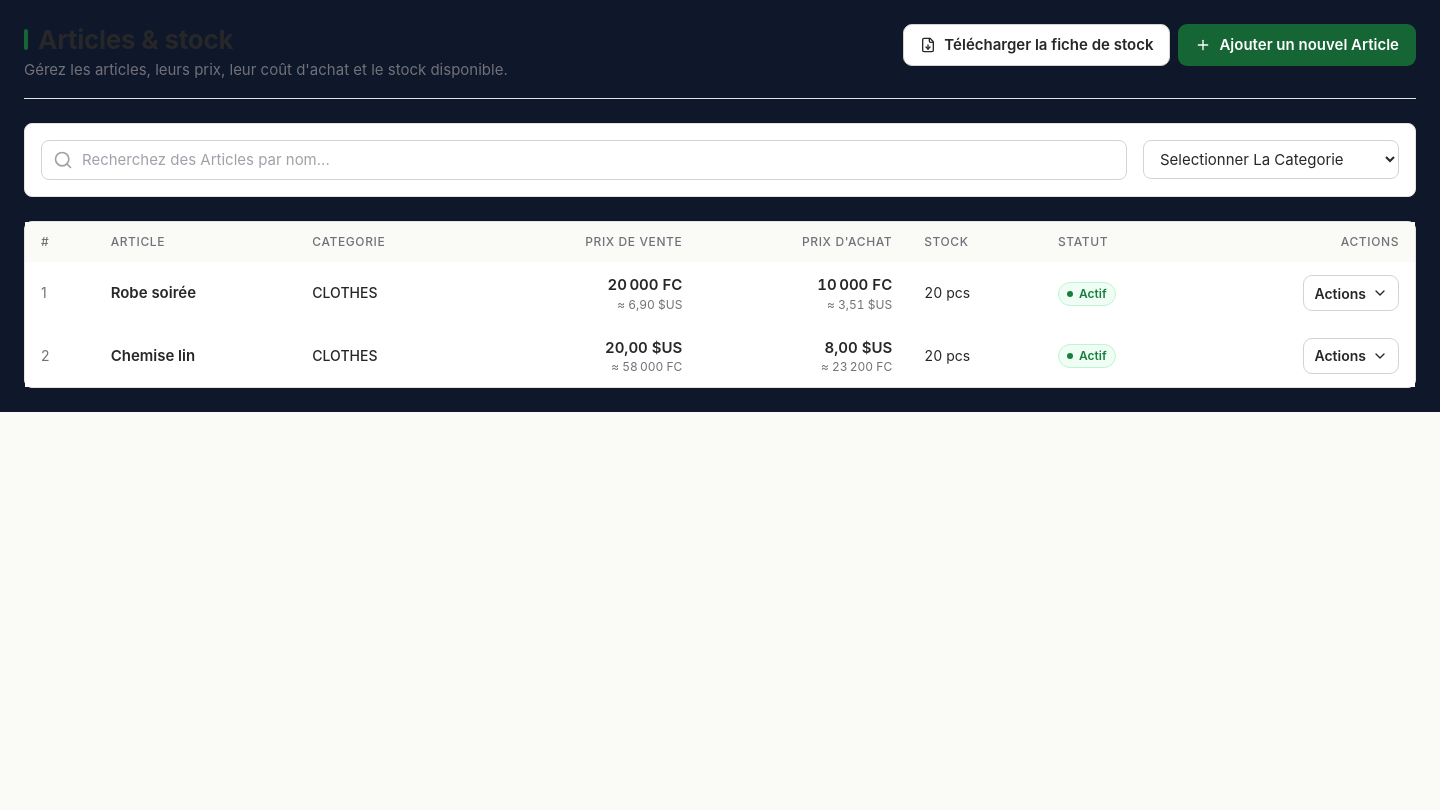
Scenario: Articles: the edit form opens on the authoritative price, and an unrelated edit never resubmits price or cost
This screenshot has width=1440, height=810.
Click the button with aria-label "Actions pour ".
click(1351, 293)  # box [1304,275,1399,311]
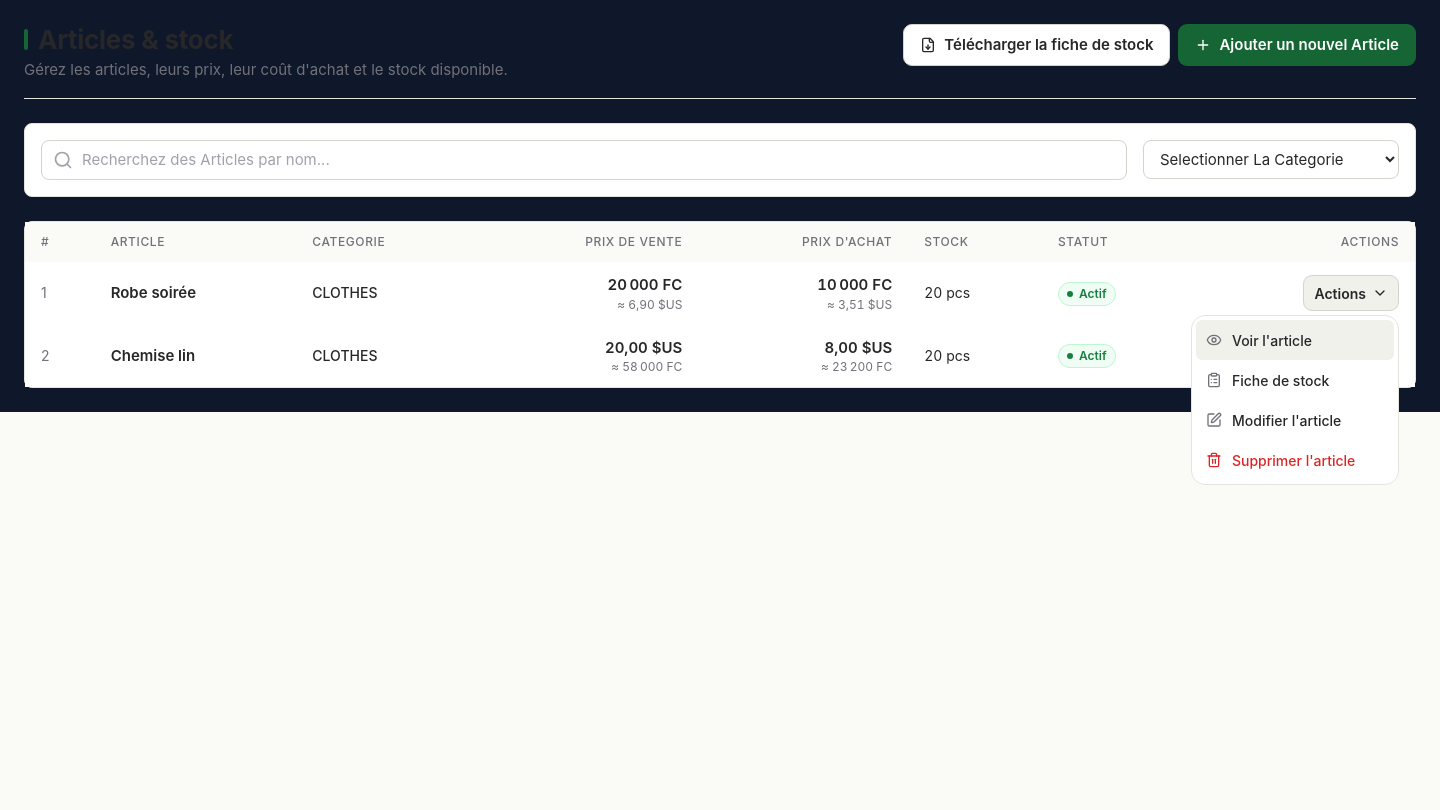
Click the menu item "Modifier l'article".
click(1295, 420)  # box [1196,400,1394,440]
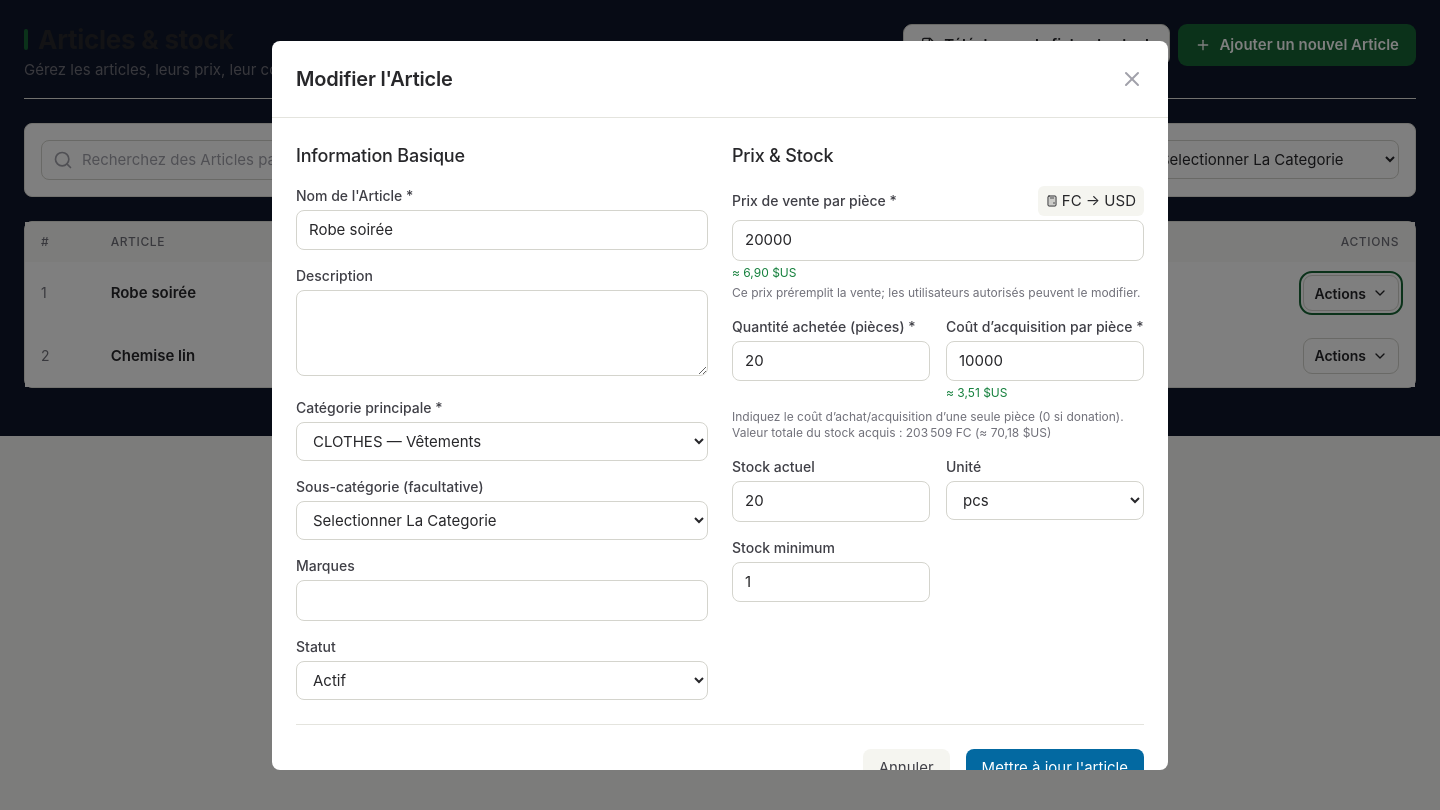
Check: the number field labelled "Prix de vente par pièce *" holds "20000", box [732,220,1144,260]
Replace the text in the number field labelled "Stock actuel" with "18" at [831, 501], box [732,481,930,522]
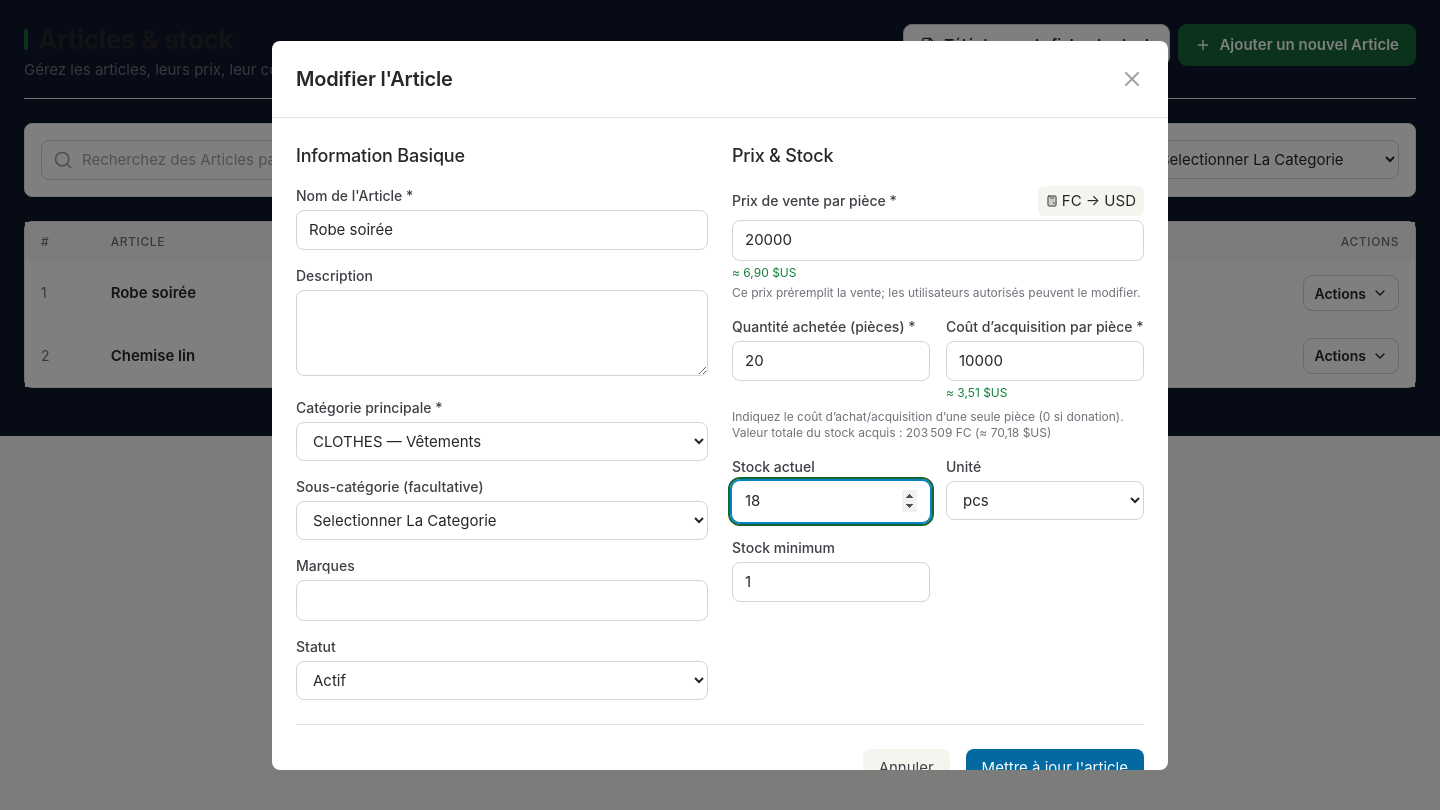
Click the button "Mettre à jour l'article".
click(1055, 768)  # box [966,748,1144,787]
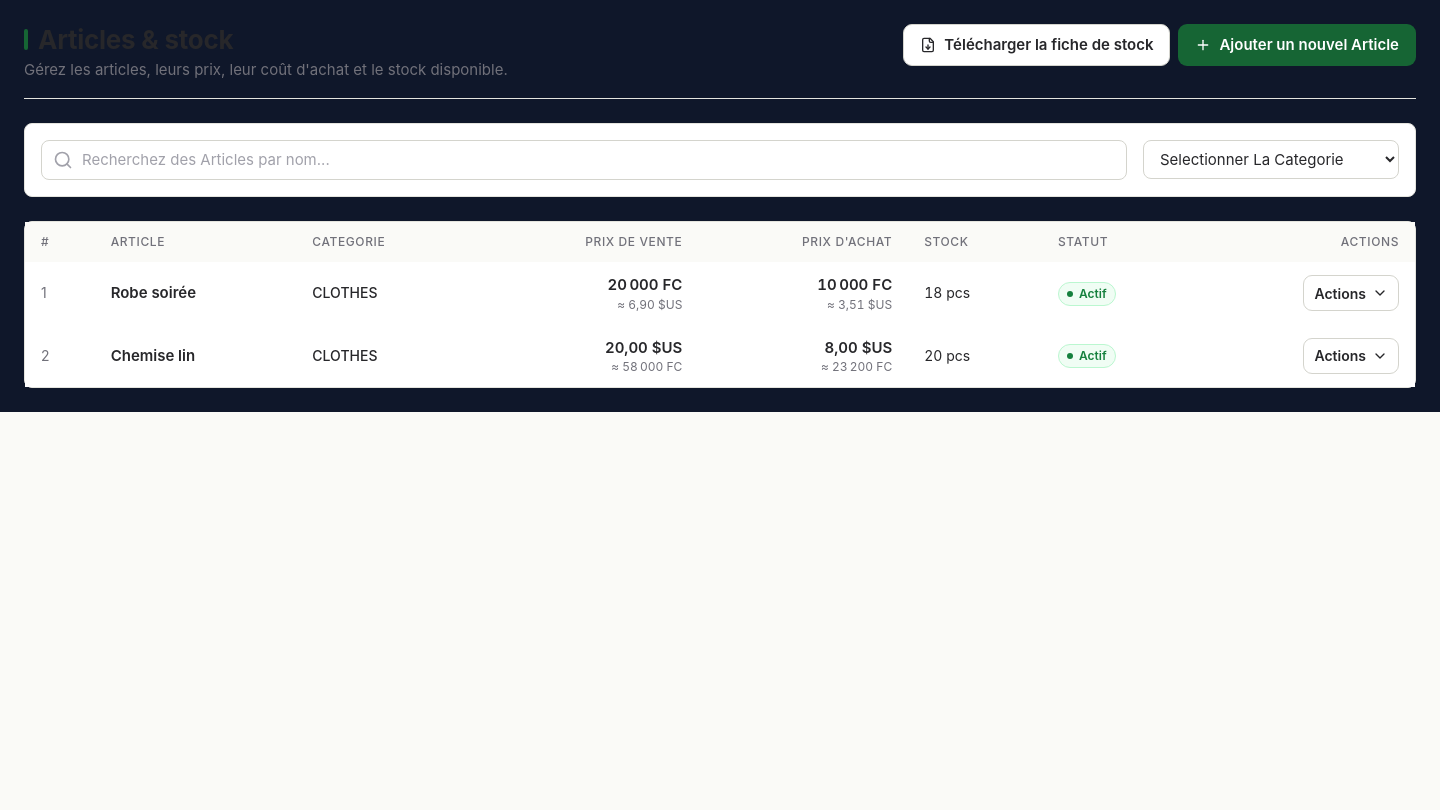
Click the button with aria-label "Actions pour ".
click(1351, 356)  # box [1304,338,1399,374]
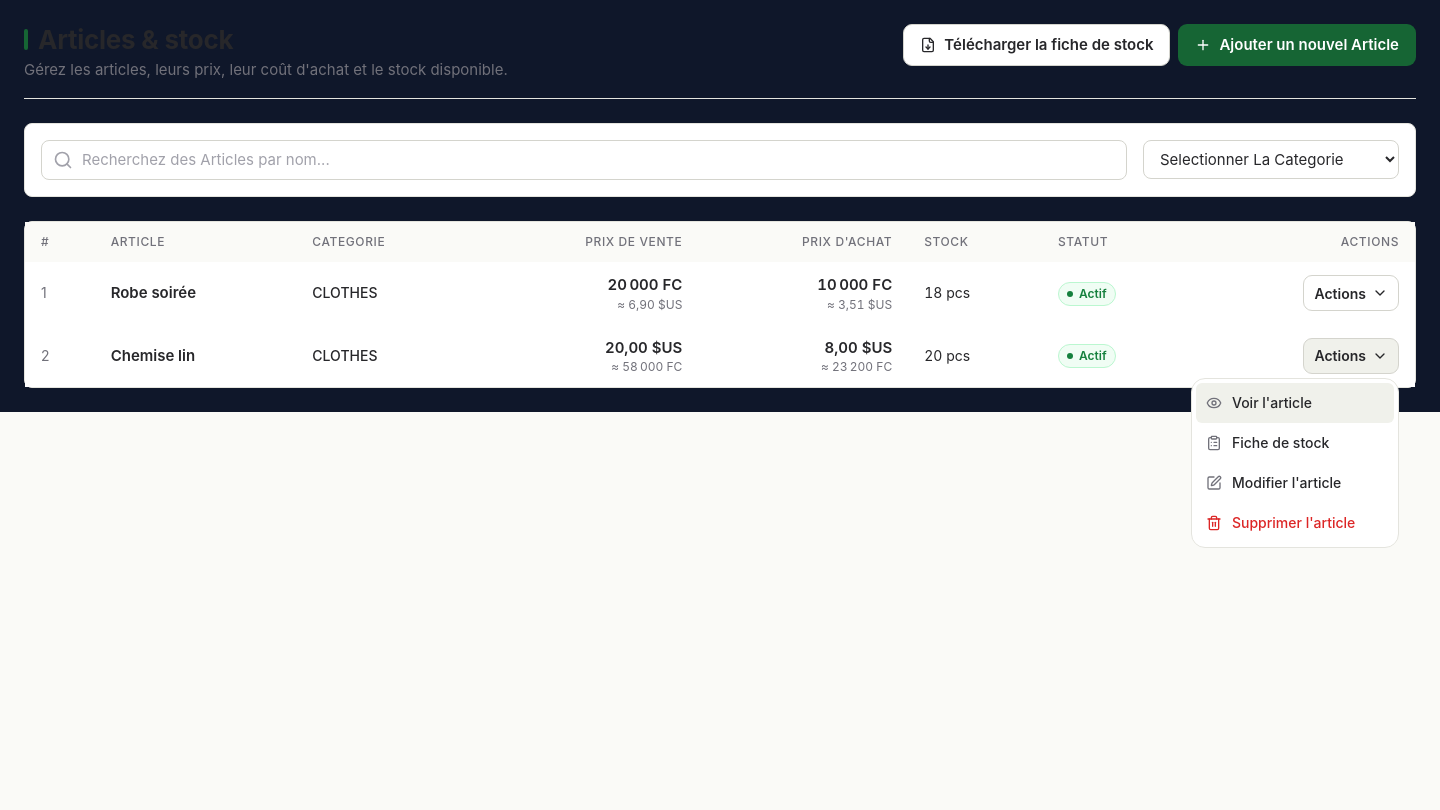
Click the menu item "Modifier l'article".
click(1295, 483)  # box [1196,463,1394,503]
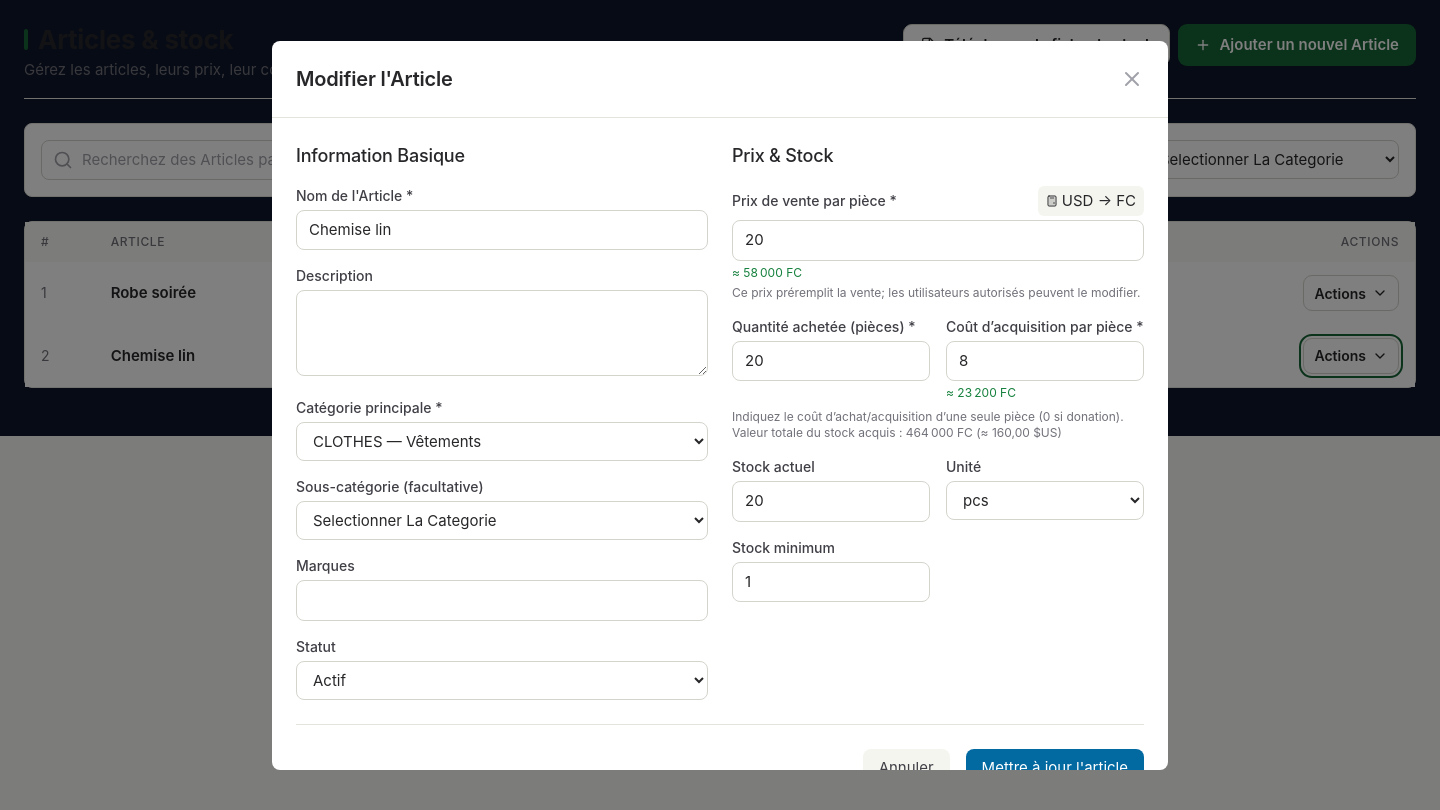
Check: the number field labelled "Prix de vente par pièce *" holds "20", box [732,220,1144,260]
